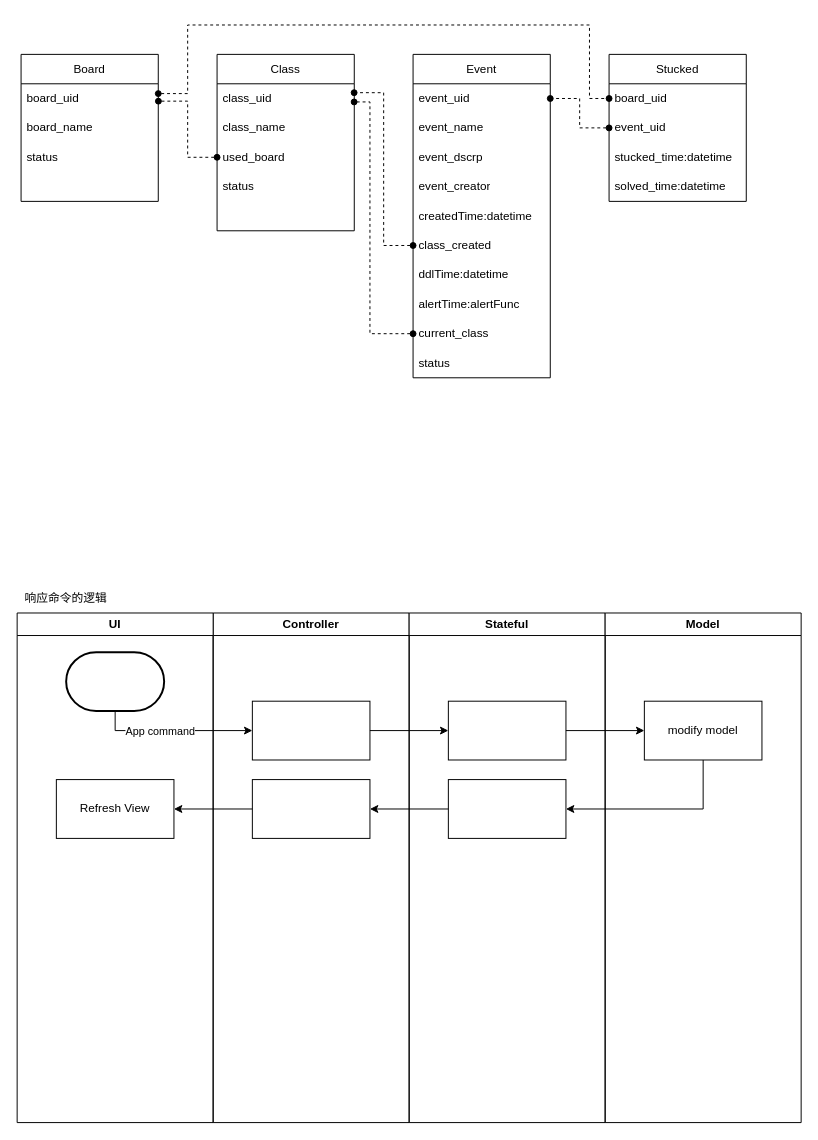
This 818x1140 diagram has some shape labels left out. The centre of each missing label's shape, as x and y in pixels:
"exec()" goes at (506,730).
"return" goes at (506,808).
"transit = app_command + dbType +dbPath" goes at (310,730).
"var" goes at (310,808).
"开始" goes at (115,681).
